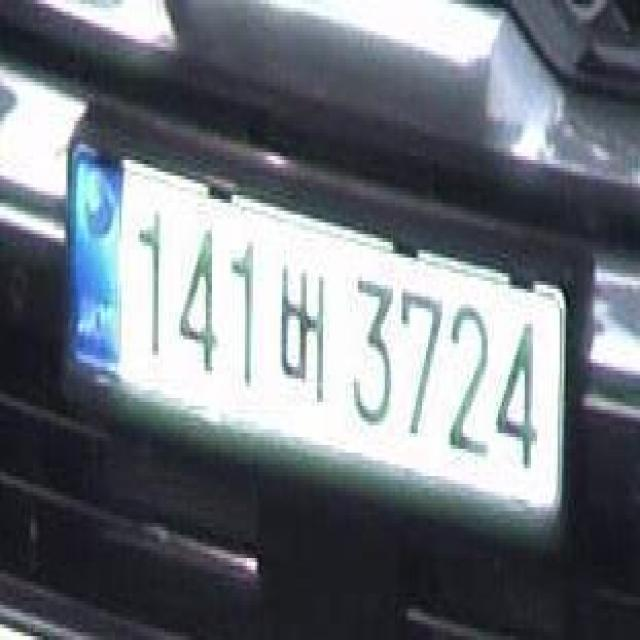illegal_plate: (60, 135, 566, 530)
